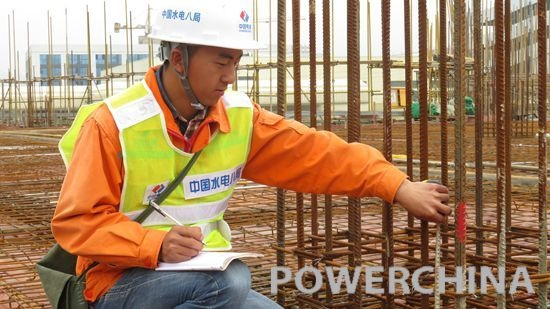white: (149, 3, 254, 107)
